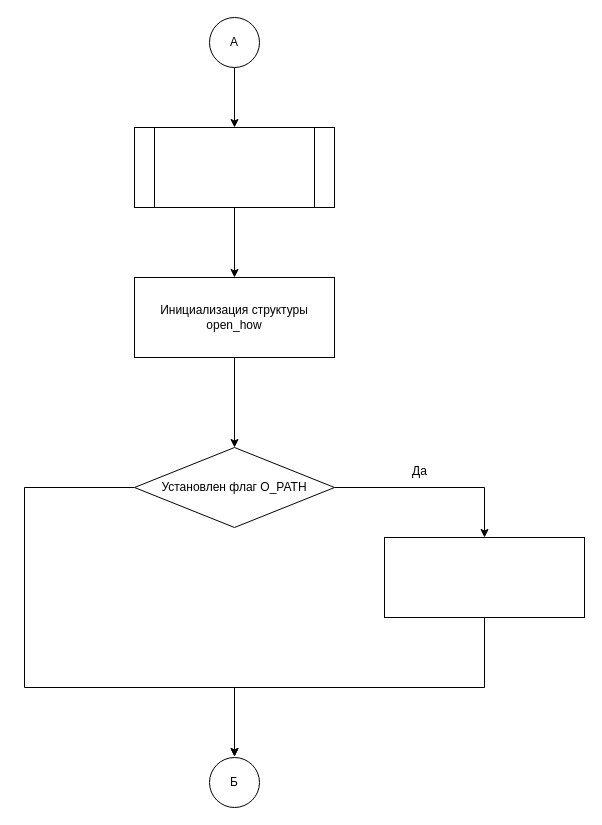
Image size: 602x825. Some labels were removed from this diagram. Here are the shapes that lost their labels. From the top down, the centre of each, then its label:
At (234,167): "Вызов build_open_how()".
At (484,577): "Запрет на открытие. запись/чтение и другие файловые операции".
